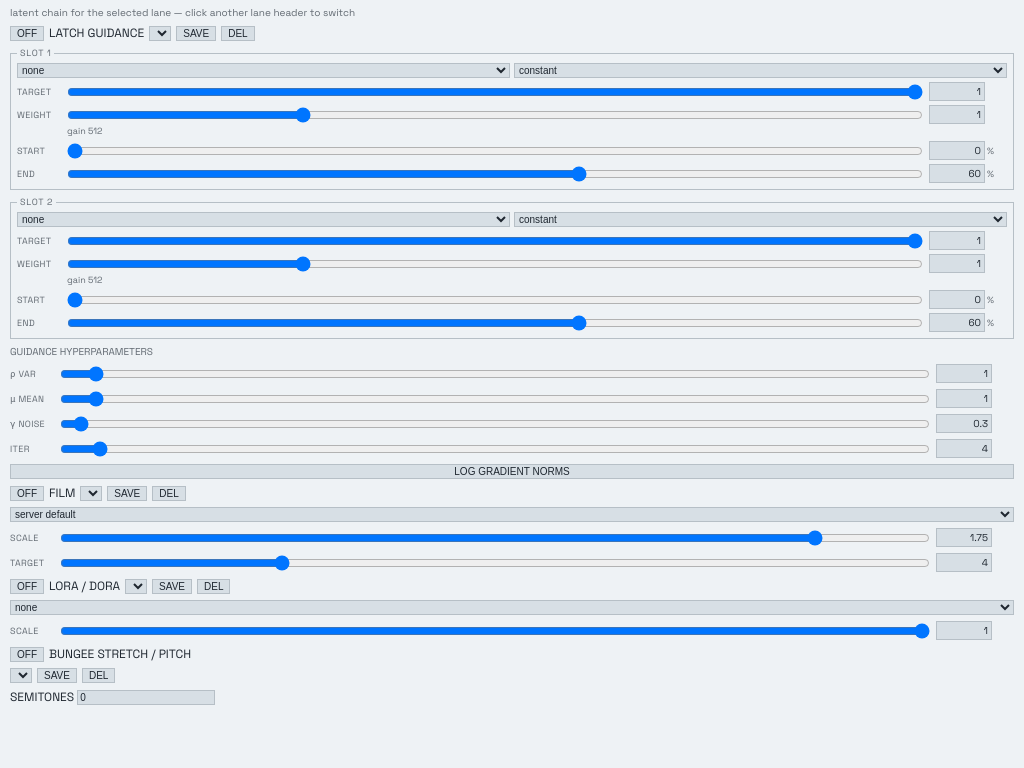
Test: LATCH slot controls: unit and value, text fields, the head's weight limit, ramps with two ends › shows the target's value in a text field with its unit beside it
Select "rms_energy_bass · medium" in the dropdown named "HEAD — slot 1" at (264, 70), box x1=17 y1=63 x2=510 y2=78
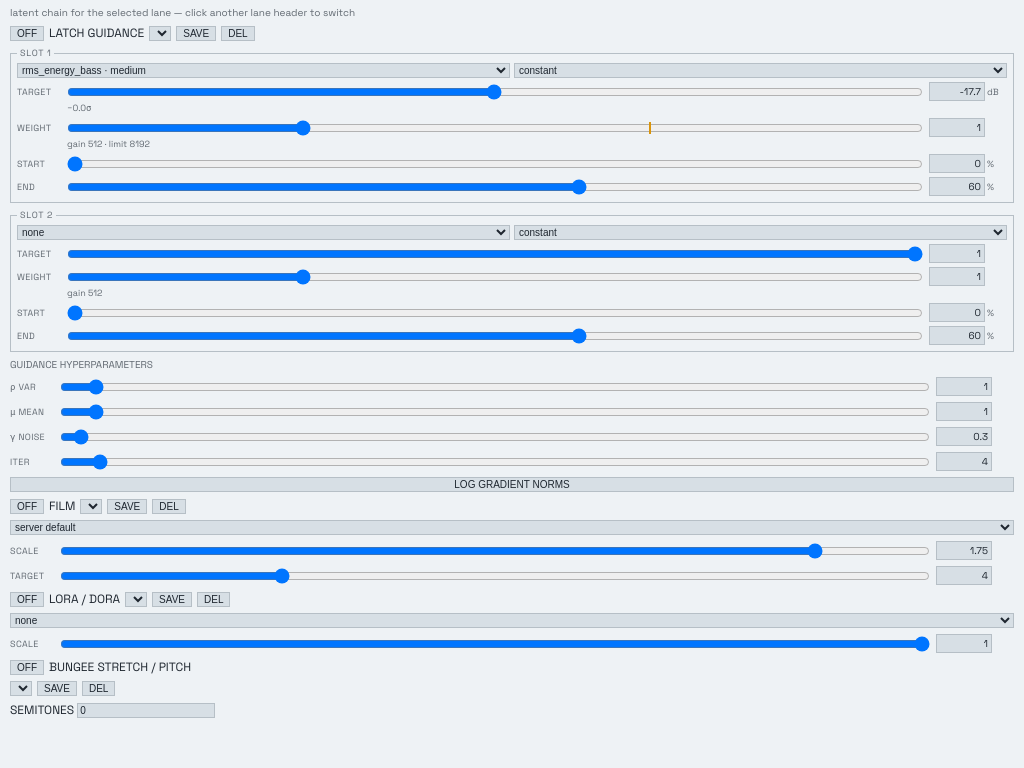
Expected: the number field named "TARGET — slot 1" holds "-17.7", x1=929 y1=82 x2=985 y2=101
Expected: the element showing "dB" is shown, x1=929 y1=82 x2=1007 y2=101
